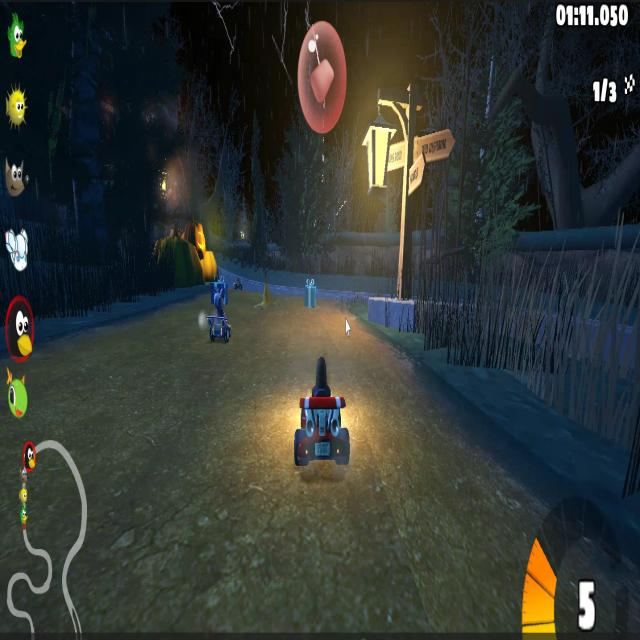bonus: (300, 274, 318, 310)
enemy_kart: (205, 305, 233, 352)
obstacle: (256, 270, 272, 316)
player_kart: (292, 336, 349, 472)
track: (94, 495, 516, 628), (126, 306, 198, 490), (198, 368, 291, 487), (43, 348, 125, 466), (353, 346, 417, 489), (422, 409, 472, 477), (239, 313, 290, 358), (295, 317, 362, 334), (278, 276, 296, 312), (232, 288, 257, 310), (228, 262, 246, 292)
